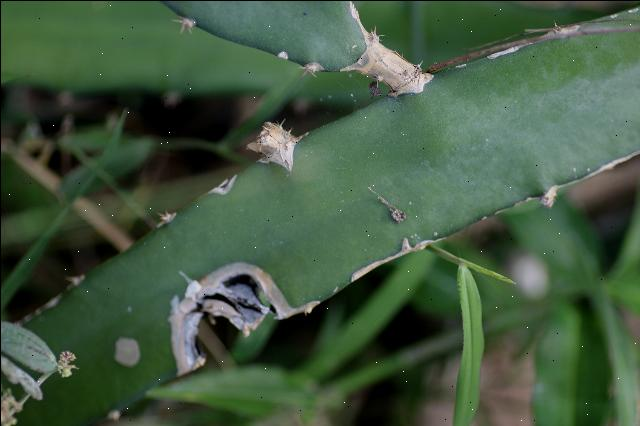stemcanker: (160, 253, 295, 379), (332, 14, 438, 108), (238, 115, 310, 185)
